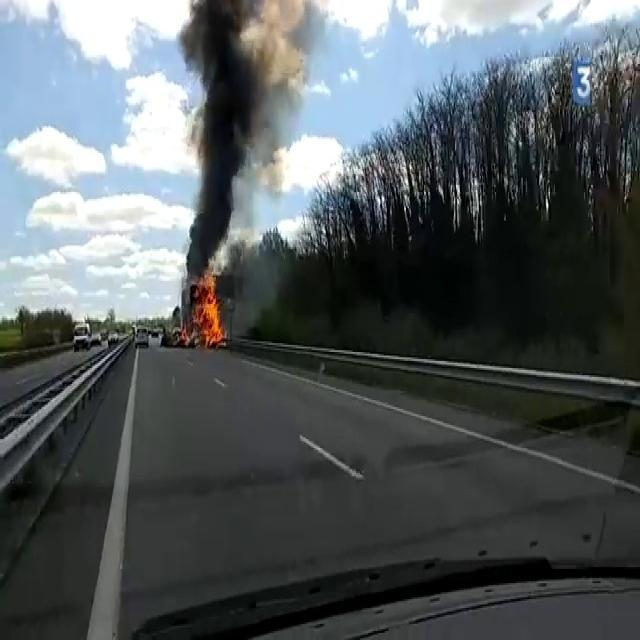Fire: (193, 269, 226, 346)
Smoke: (182, 0, 315, 277)
